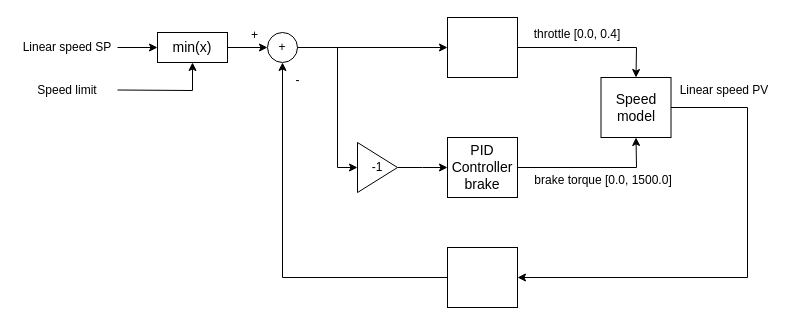
Some shapes in this 791 by 325 pixel diagram are drawn without their labels. The shapes that lost their labels are listed below. From the top down, each one's centre as x and y in pixels, then its label:
(x=482, y=47): PID Controller throttle
(x=482, y=277): Low pass filter
